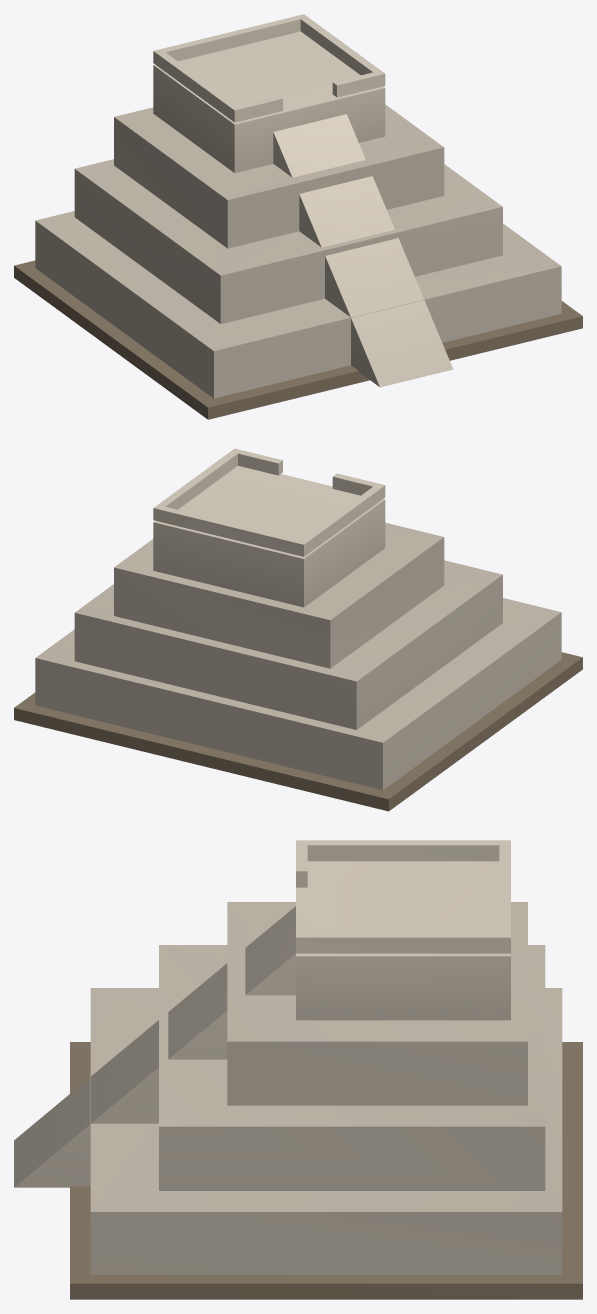
File: caral_pyramid_small_lod1.glb
3 renders of one model, top to bottom at view 1: azimuth 30°, elevation 25°; view 2: azimuth 150°, elevation 25°; view 3: azimuth 270°, elevation 25°, orthographic. The views are drawn at different scales.
Parts seen in each view (by area): view 1: GEO-Arch_pyramid_small_LOD1; view 2: GEO-Arch_pyramid_small_LOD1; view 3: GEO-Arch_pyramid_small_LOD1.
Boxes of the visible parts, <box> form: GEO-Arch_pyramid_small_LOD1: <box>14,14,582,419</box>; GEO-Arch_pyramid_small_LOD1: <box>14,448,582,811</box>; GEO-Arch_pyramid_small_LOD1: <box>14,840,582,1299</box>.
Bounding box in the file's own units: 19.4 × 10.85 × 19.3.
